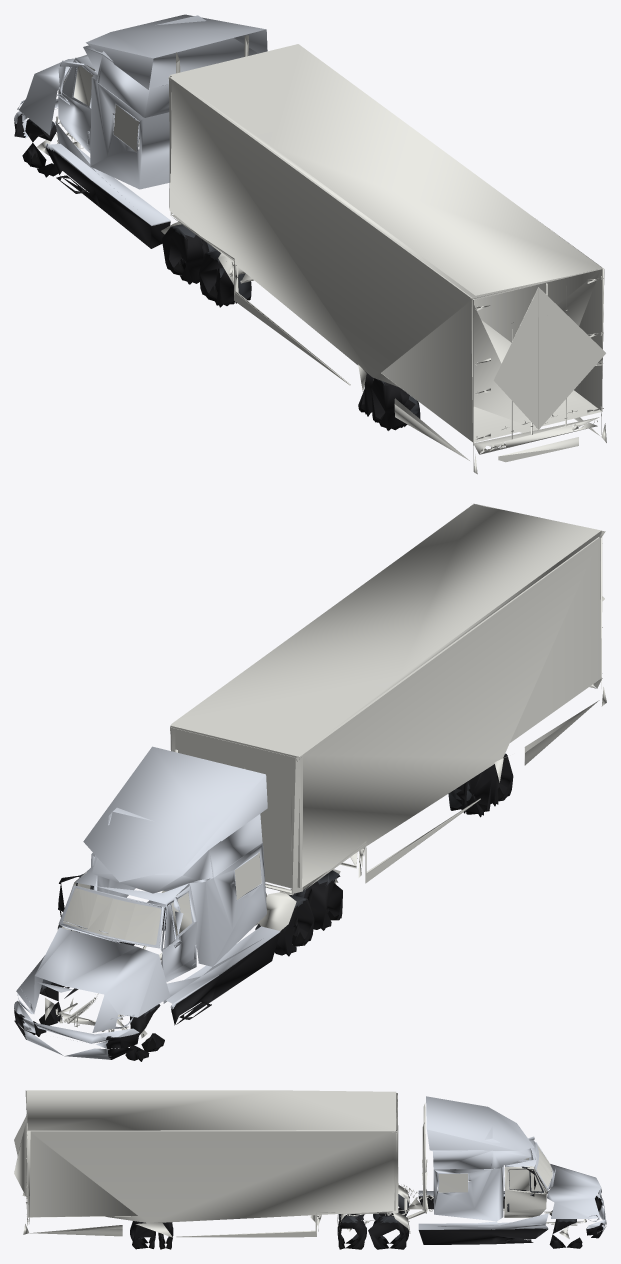
File: truck_semi.glb
3 renders of one model, top to bottom at view 1: azimuth 30°, elevation 25°; view 2: azimuth 150°, elevation 25°; view 3: azimuth 270°, elevation 25°, orthographic. The views are drawn at different scales.
Parts seen in each view (by area): view 1: body; view 2: body; view 3: body.
Boxes of the visible parts, x1,y1,x2,y2 form: body: (14, 14, 606, 474); body: (14, 503, 606, 1061); body: (14, 1090, 606, 1249).
Size of the model in its own units: 2.74 by 3.82 by 16.72.
2 materials, 1 textured.
